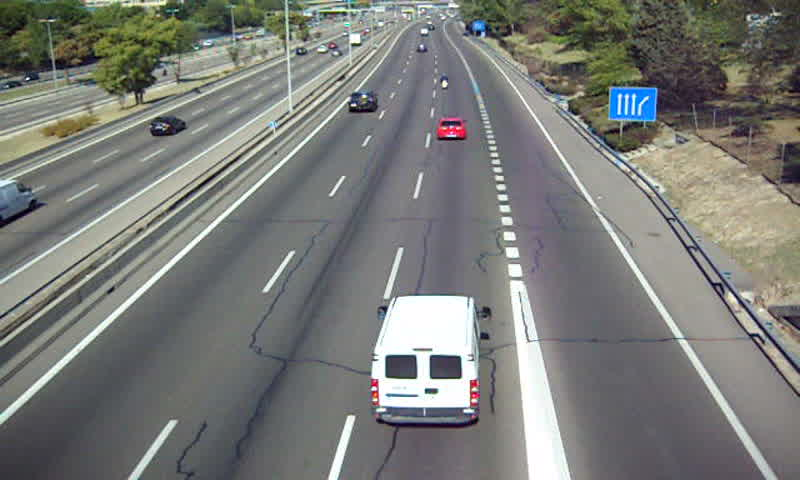car: (346, 91, 377, 112), (437, 118, 466, 140)
motorcycle: (439, 73, 450, 92)
van: (370, 294, 478, 427)
